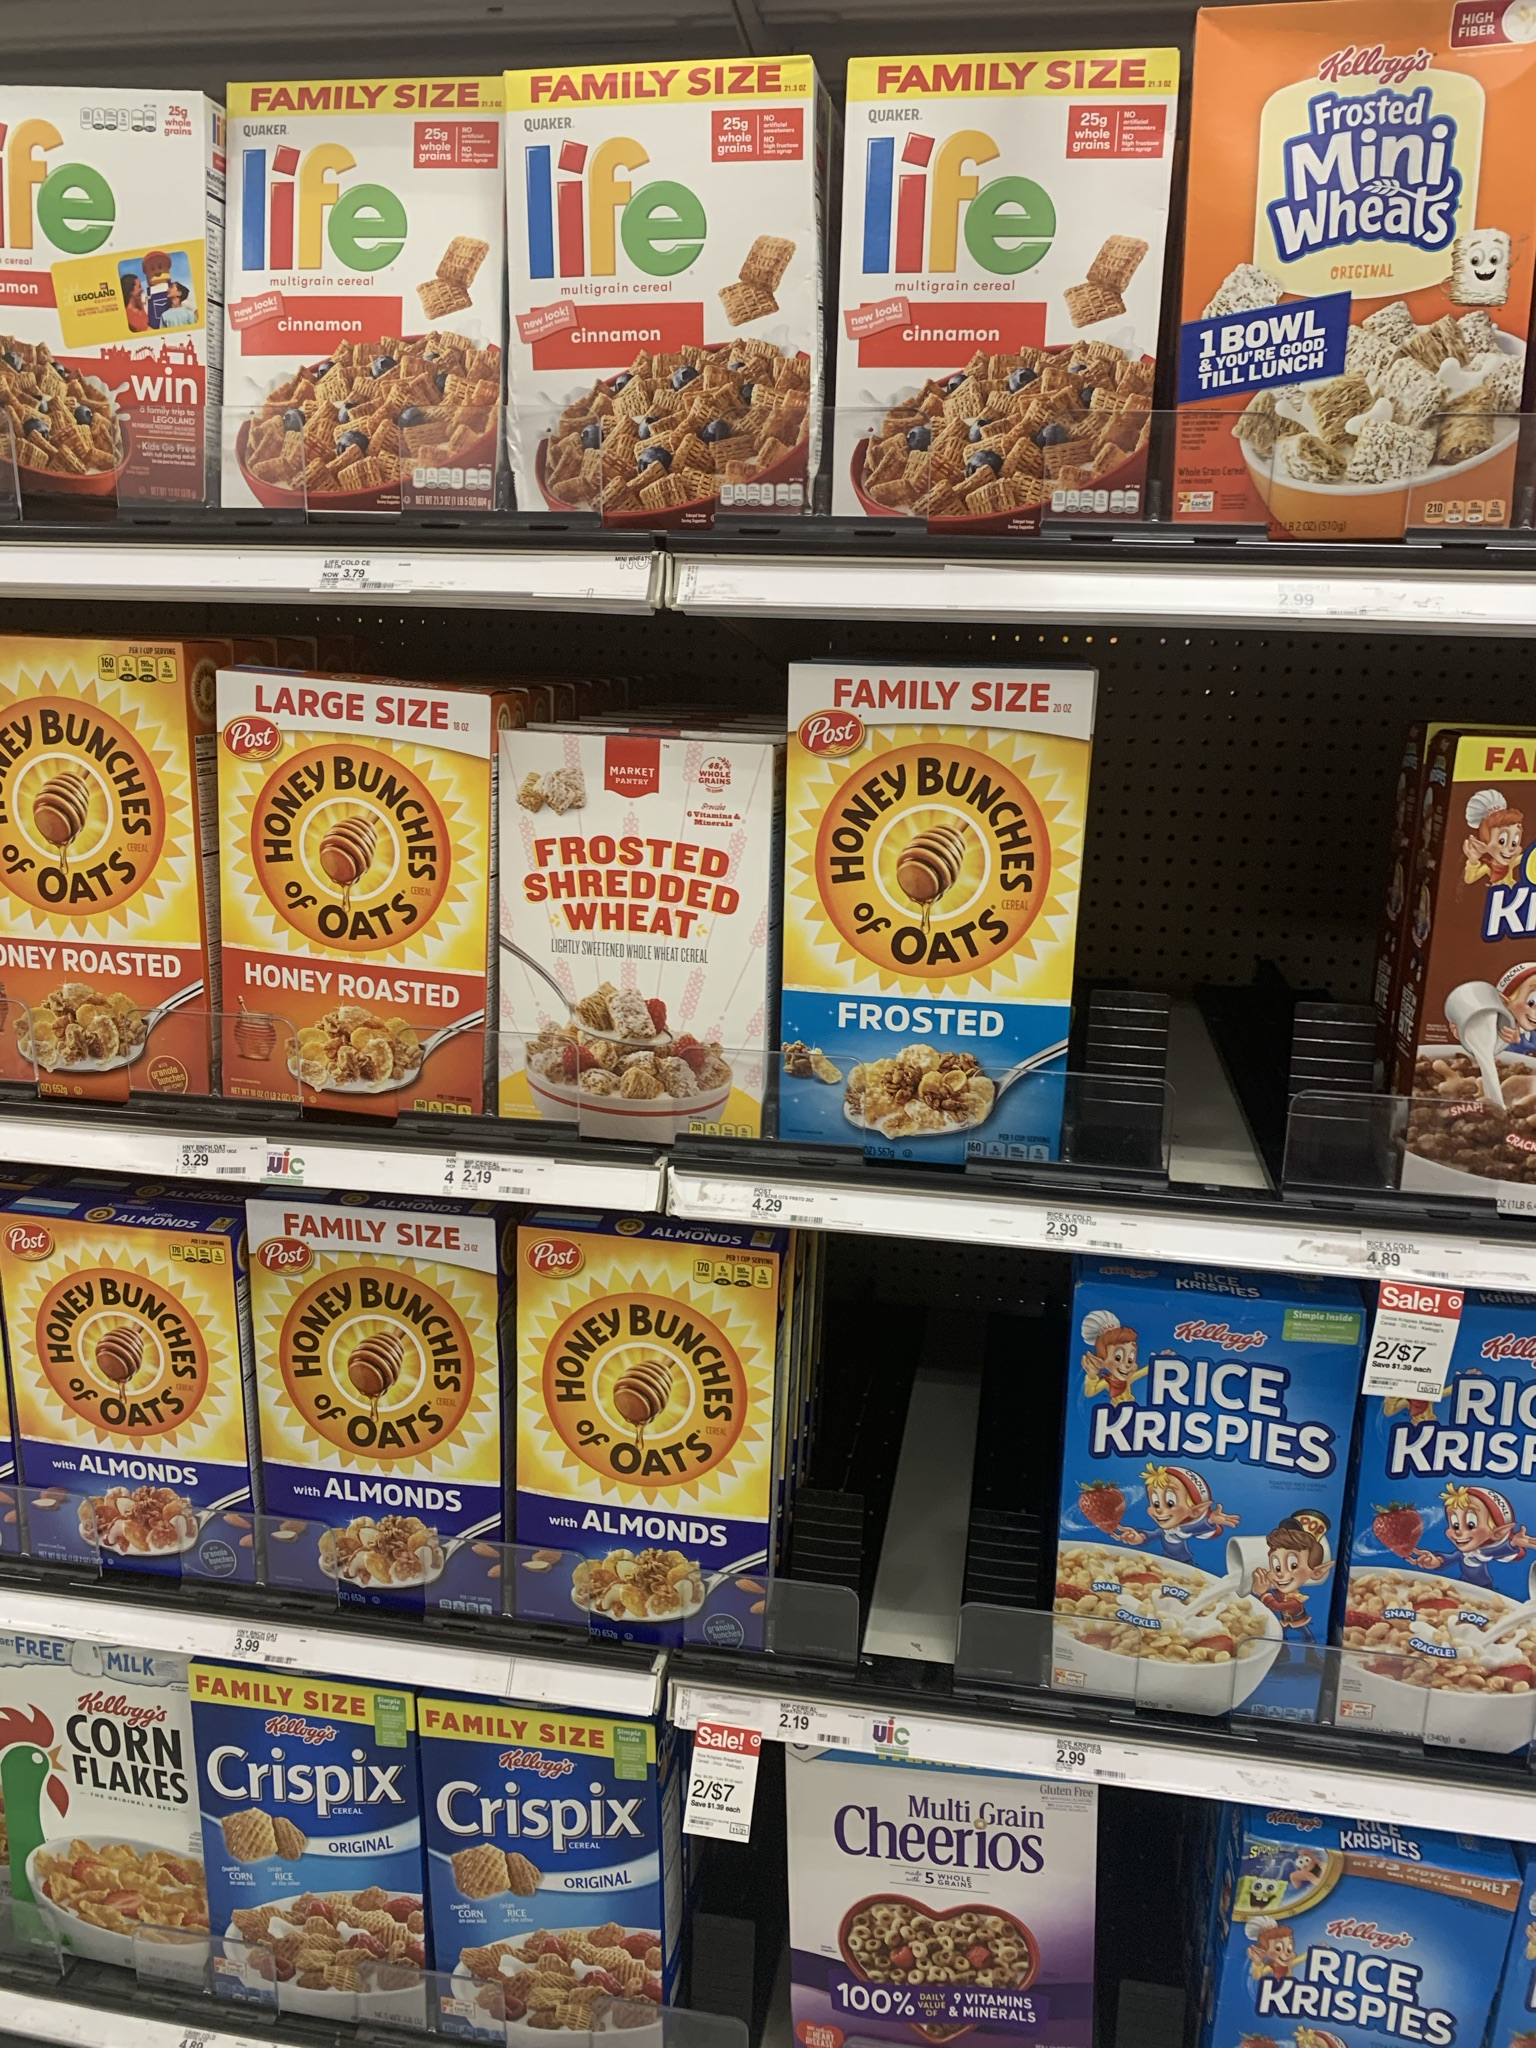cereal: (1197, 10, 1525, 543), (845, 56, 1150, 556), (511, 73, 815, 564), (786, 664, 1050, 1172), (218, 82, 503, 534), (198, 661, 476, 1126), (1076, 1287, 1326, 1737), (497, 721, 763, 1142), (248, 1205, 516, 1619), (524, 1222, 776, 1655), (787, 1750, 1104, 2048), (189, 1667, 424, 2040), (411, 1698, 662, 2048), (2, 1213, 236, 1580), (1350, 1332, 1536, 1764), (2, 651, 177, 1093), (3, 1640, 210, 2009), (1246, 1809, 1499, 2048)
